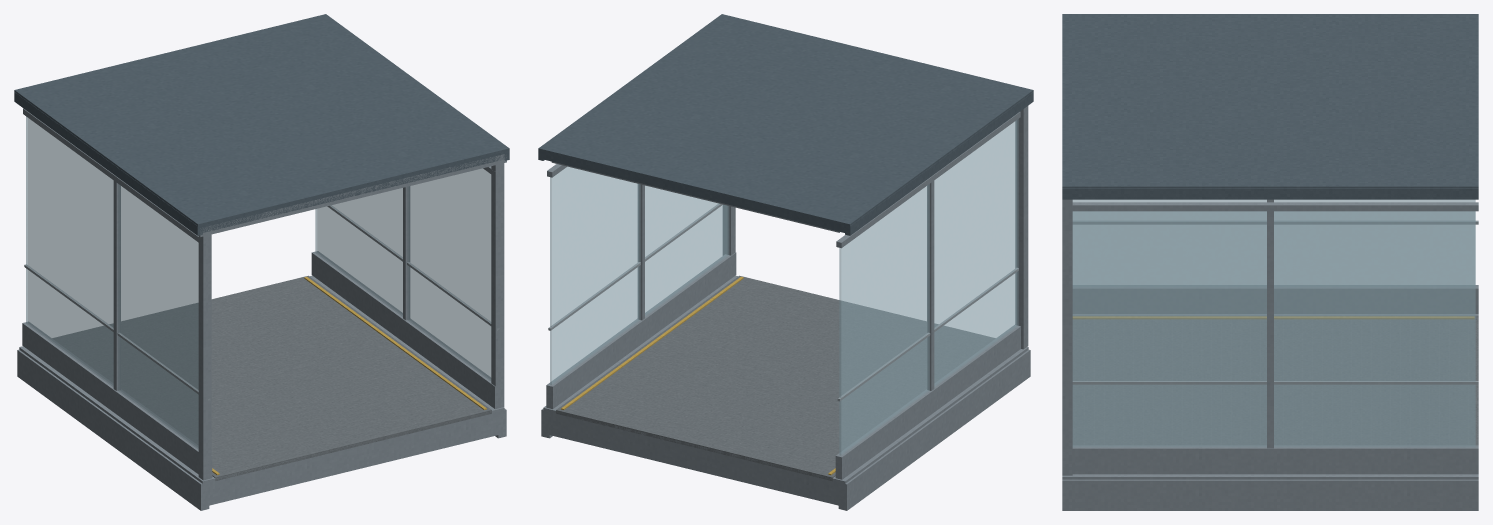
The picture shows the model from 3 angles, left to right: view 1: azimuth 30°, elevation 25°; view 2: azimuth 150°, elevation 25°; view 3: azimuth 270°, elevation 25°; orthographic projection. The views are drawn at different scales.
Parts seen in each view (by area): view 1: VIS_Roof, VIS_Glass, VIS_Floor, VIS_Steel, VIS_Railing, VIS_Safety; view 2: VIS_Roof, VIS_Glass, VIS_Floor, VIS_Steel, VIS_Railing, VIS_Safety; view 3: VIS_Glass, VIS_Roof, VIS_Floor, VIS_Steel, VIS_Railing, VIS_Safety.
Part boxes in pixels (x1,y1,x2,y2): VIS_Roof: (14, 14, 509, 235); VIS_Glass: (26, 116, 491, 449); VIS_Floor: (52, 275, 491, 480); VIS_Steel: (17, 108, 506, 510); VIS_Railing: (24, 205, 499, 400); VIS_Safety: (212, 276, 486, 475); VIS_Roof: (538, 14, 1033, 235); VIS_Glass: (550, 119, 1018, 455); VIS_Floor: (556, 275, 995, 481); VIS_Steel: (541, 106, 1030, 510); VIS_Railing: (548, 203, 1018, 401); VIS_Safety: (561, 276, 835, 475); VIS_Glass: (1072, 199, 1475, 447); VIS_Roof: (1062, 14, 1478, 199); VIS_Floor: (1073, 315, 1478, 445); VIS_Steel: (1062, 199, 1478, 510); VIS_Railing: (1072, 220, 1478, 384); VIS_Safety: (1073, 316, 1474, 318).
Size of the model in its own units: 3.92 by 3.46 by 4.
6 materials, 6 textured.
